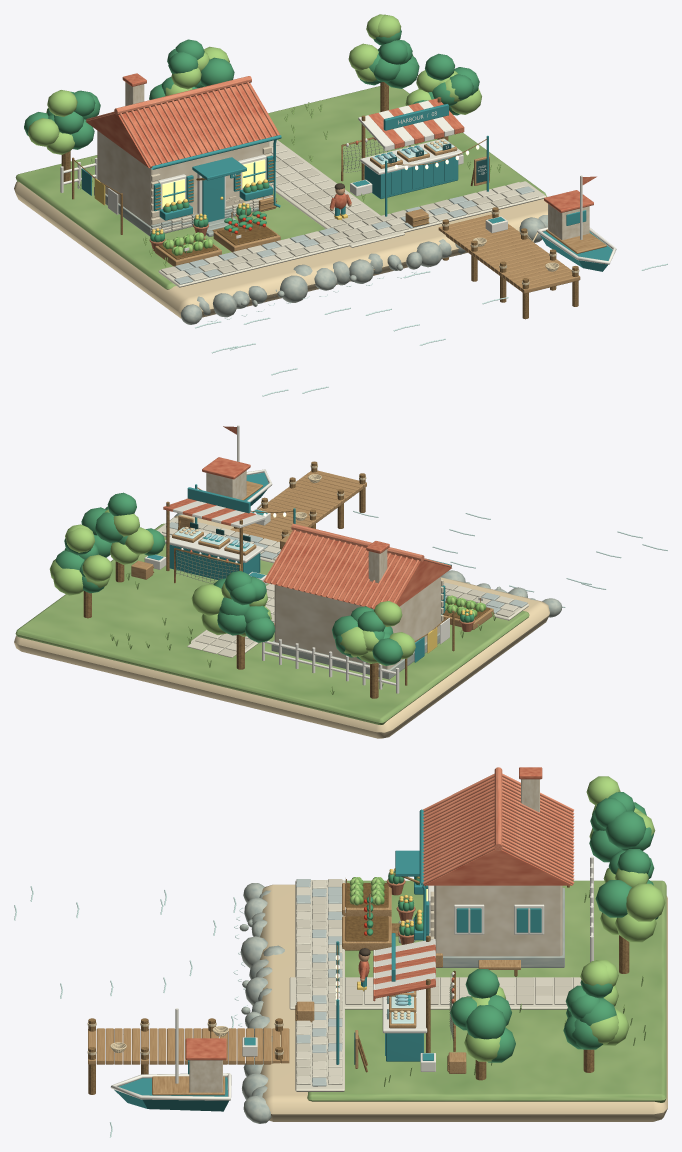
File: harbor.fbx
3 renders of one model, top to bottom at view 1: azimuth 30°, elevation 25°; view 2: azimuth 150°, elevation 25°; view 3: azimuth 270°, elevation 25°, orthographic. The views are drawn at different scales.
Visible parts, largest first — view 1: Garden ground, Island foundation, Gable roof, House walls, Coastal lane, Main lane, Roof ridge, Front door, Boat cabin, Fishing boat hull, Fish stall countertop, Fish shop sign (+13 smaller); view 2: Garden ground, Island foundation, House walls, Gable roof, Fish stall counter, House stone plinth, Boat cabin, Roof ridge, Fish stall countertop, Varied tree foliage.023, Fish shop sign, Varied tree foliage.036 (+13 smaller); view 3: Garden ground, Island foundation, House walls, Gable roof, Coastal lane, Fishing boat hull, House stone plinth, Main lane, Varied tree foliage.023, Varied tree foliage.005, Varied tree foliage.054, Boat cabin (+28 smaller).
Boxes of the visible parts, x1,y1,x2,y2 form: Garden ground: [15, 86, 546, 289]; Island foundation: [14, 181, 547, 318]; Gable roof: [85, 83, 280, 167]; House walls: [97, 130, 269, 226]; Coastal lane: [158, 181, 546, 287]; Main lane: [271, 140, 404, 247]; Roof ridge: [114, 76, 251, 114]; Front door: [202, 176, 224, 222]; Boat cabin: [548, 204, 589, 239]; Fishing boat hull: [540, 231, 612, 271]; Fish stall countertop: [360, 138, 462, 174]; Fish shop sign: [383, 104, 448, 130]; Garden ground: [15, 523, 529, 724]; Island foundation: [14, 515, 549, 738]; House walls: [274, 576, 440, 669]; Gable roof: [263, 530, 451, 608]; Fish stall counter: [169, 544, 259, 579]; House stone plinth: [271, 632, 439, 679]; Boat cabin: [206, 470, 246, 499]; Roof ridge: [291, 523, 424, 561]; Fish stall countertop: [165, 533, 263, 562]; Varied tree foliage.023: [191, 584, 223, 615]; Fish shop sign: [187, 487, 250, 513]; Varied tree foliage.036: [53, 568, 83, 595]; Garden ground: [307, 880, 666, 1102]; Island foundation: [259, 884, 667, 1121]; House walls: [434, 885, 562, 956]; Gable roof: [424, 795, 572, 885]; Coastal lane: [295, 880, 344, 1091]; Fishing boat hull: [114, 1077, 228, 1111]; House stone plinth: [436, 888, 564, 967]; Main lane: [289, 977, 573, 1009]; Varied tree foliage.023: [626, 883, 665, 921]; Varied tree foliage.005: [605, 811, 646, 848]; Varied tree foliage.054: [465, 1005, 506, 1039]; Boat cabin: [189, 1060, 222, 1092].
Size of what is drawn, in the model's own units: 2030 by 671 by 2238.
29 materials, 8 textured.
